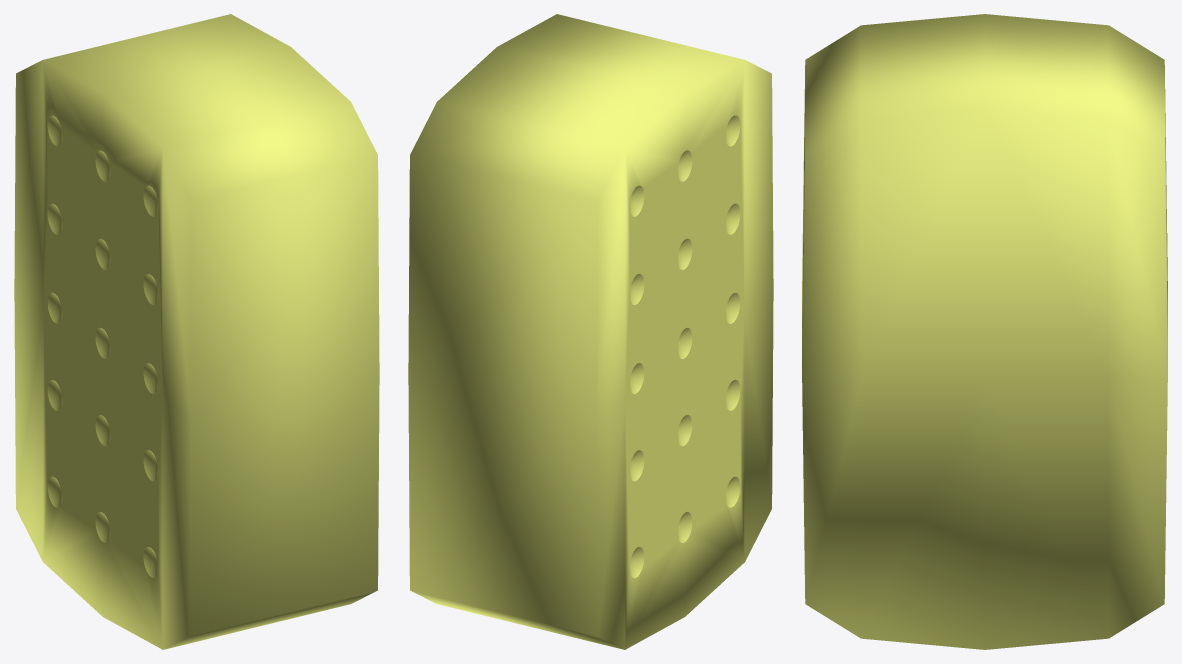
File: lucestraseras.fbx
3 renders of one model, left to right at view 1: azimuth 30°, elevation 25°; view 2: azimuth 150°, elevation 25°; view 3: azimuth 270°, elevation 25°, orthographic. The views are drawn at different scales.
Visible parts, largest first — view 1: lucestraseras; view 2: lucestraseras; view 3: lucestraseras.
Boxes of the visible parts, <box> form: lucestraseras: <box>14,14,379,649</box>; lucestraseras: <box>408,14,773,649</box>; lucestraseras: <box>802,14,1167,649</box>.
Bounding box in the file's own units: 0.0382 × 0.1019 × 0.0624.
